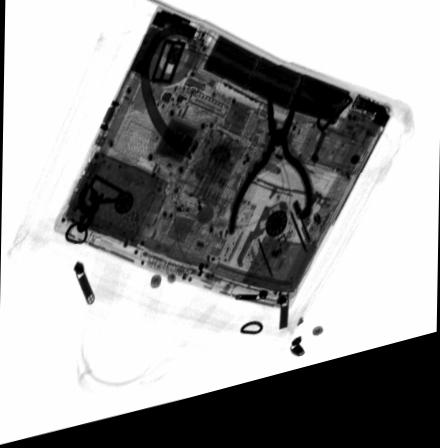Pliers: (225, 99, 314, 249)
